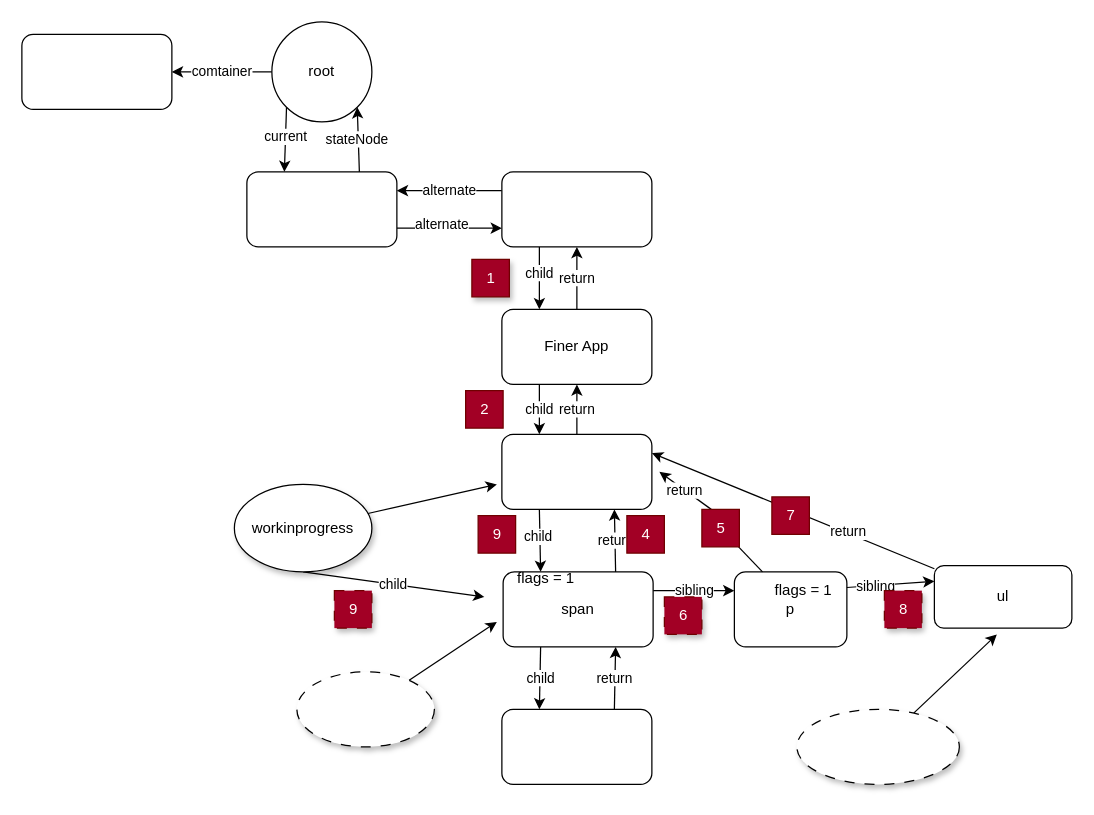
This 1094x815 diagram has some shape labels left out. Each missing label, with the centre of its shape:
dom（#root）: point 96,71
fiber div: point 576,471
firstNewFiber: point 366,711
lastNewFiber: point 879,748
rootFiber: point 321,209
wip: point 576,209
文本: point 576,746
